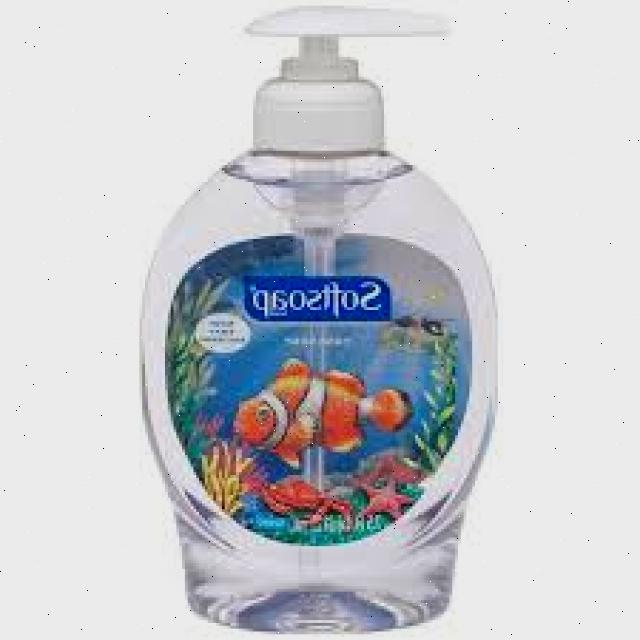liquid soap: (118, 0, 510, 640)
